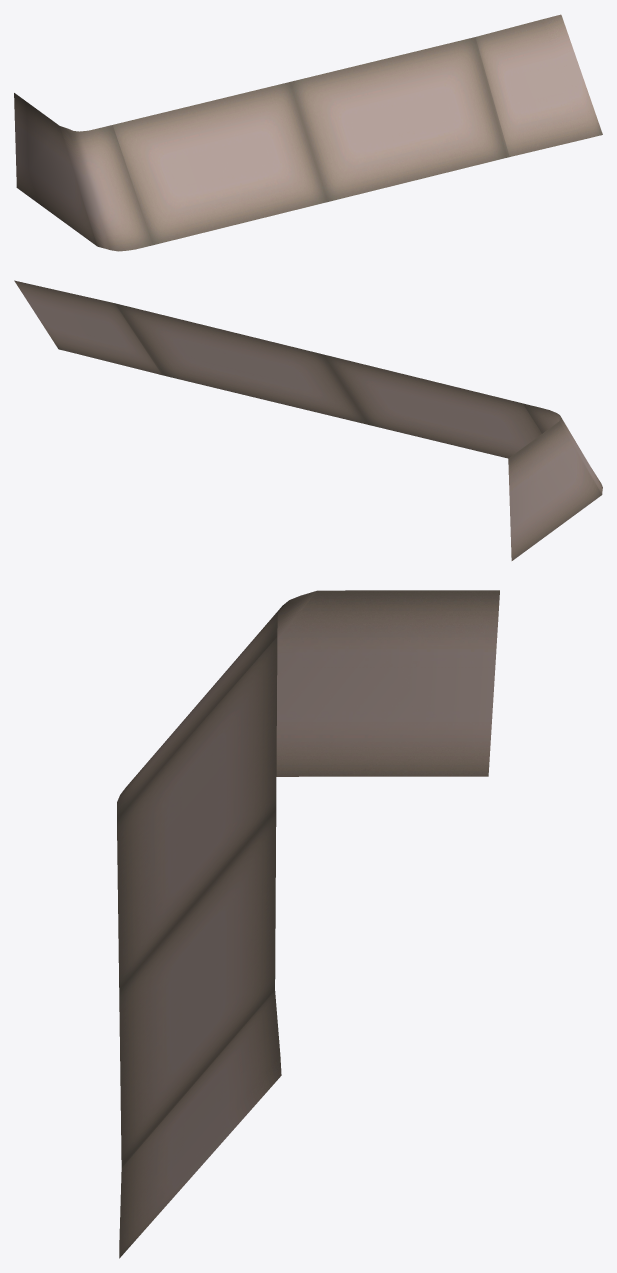
Rendered from p6_hijacked_front_cabin_glass_back_lod0.glb.
The picture shows the model from 3 angles, top to bottom: view 1: azimuth 30°, elevation 25°; view 2: azimuth 150°, elevation 25°; view 3: azimuth 270°, elevation 25°; orthographic projection. The views are drawn at different scales.
Visible parts, largest first — view 1: surf0; view 2: surf0; view 3: surf0.
Boxes of the visible parts, x1,y1,x2,y2 form: surf0: (14,14,602,251); surf0: (14,280,602,560); surf0: (117,590,499,1258).
Bounding box in the file's own units: 445 × 80.22 × 149.
